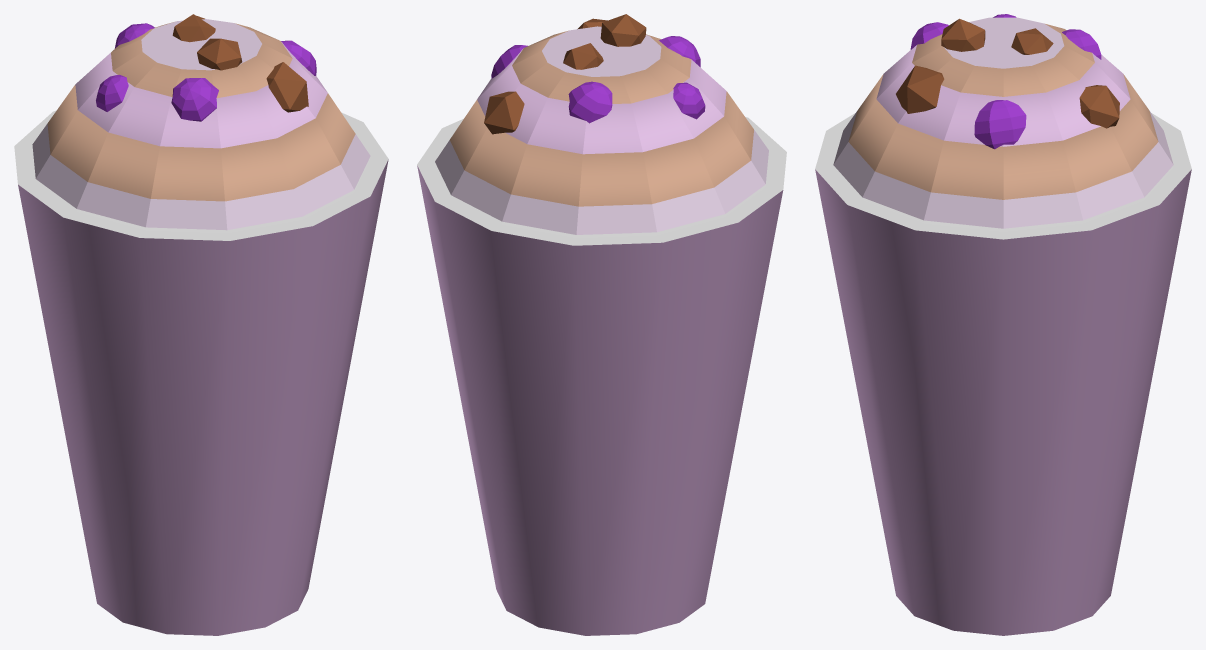
The model's file is milkshake.fbx.
3 renders of one model, left to right at view 1: azimuth 30°, elevation 25°; view 2: azimuth 150°, elevation 25°; view 3: azimuth 270°, elevation 25°, orthographic.
Parts seen in each view (by area): view 1: pCylinder1, pSphere3, pPlatonic4, pPlatonic1, pSphere4, pPlatonic2, pSphere1; view 2: pCylinder1, pSphere2, pPlatonic3, pPlatonic1, pSphere4, pPlatonic2, pSphere3; view 3: pCylinder1, pSphere1, pPlatonic4, pPlatonic3, pPlatonic1, pPlatonic2, pSphere2.
Part boxes in pixels (bbox=[...]): pCylinder1: bbox=[14, 19, 388, 635]; pSphere3: bbox=[171, 78, 218, 121]; pPlatonic4: bbox=[266, 62, 308, 112]; pPlatonic1: bbox=[197, 38, 242, 70]; pSphere4: bbox=[96, 74, 128, 111]; pPlatonic2: bbox=[172, 14, 215, 42]; pSphere1: bbox=[281, 40, 316, 75]; pCylinder1: bbox=[417, 26, 786, 635]; pSphere2: bbox=[568, 81, 612, 123]; pPlatonic3: bbox=[484, 91, 524, 134]; pPlatonic1: bbox=[600, 14, 646, 46]; pSphere4: bbox=[673, 82, 705, 119]; pPlatonic2: bbox=[563, 43, 603, 69]; pSphere3: bbox=[659, 36, 700, 67]; pCylinder1: bbox=[815, 17, 1191, 635]; pSphere1: bbox=[974, 100, 1026, 149]; pPlatonic4: bbox=[896, 65, 944, 113]; pPlatonic3: bbox=[1079, 85, 1119, 128]; pPlatonic1: bbox=[941, 18, 985, 51]; pPlatonic2: bbox=[1011, 28, 1053, 54]; pSphere2: bbox=[1062, 29, 1101, 59].
Bounding box in the file's own units: 2.57 × 4.33 × 2.59.
